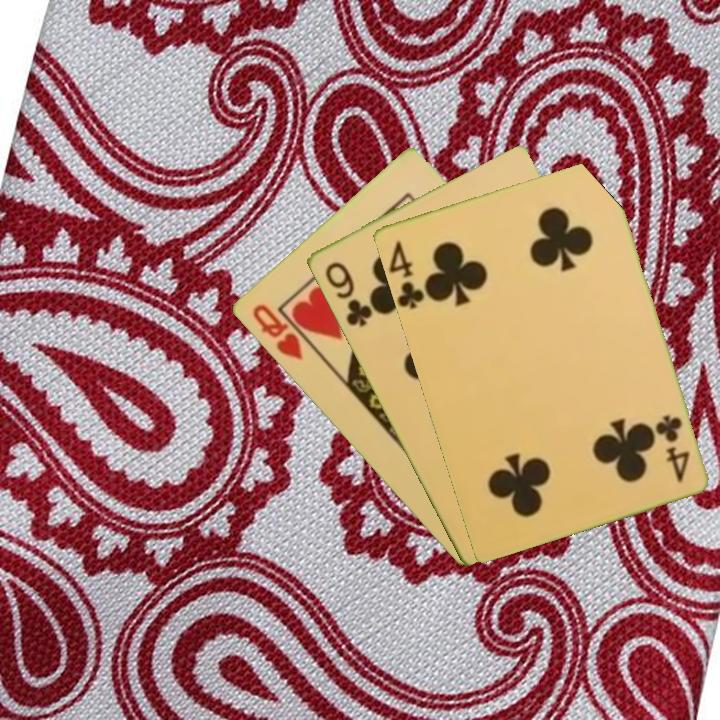4c: (385, 237, 427, 312), (652, 410, 692, 484)
9c: (321, 258, 375, 330)
Qh: (248, 300, 317, 363)
